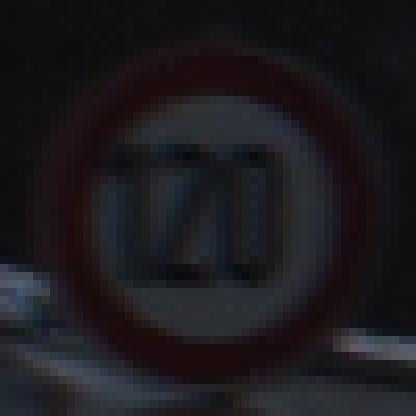Speed Limit 120: (56, 55, 361, 376)
